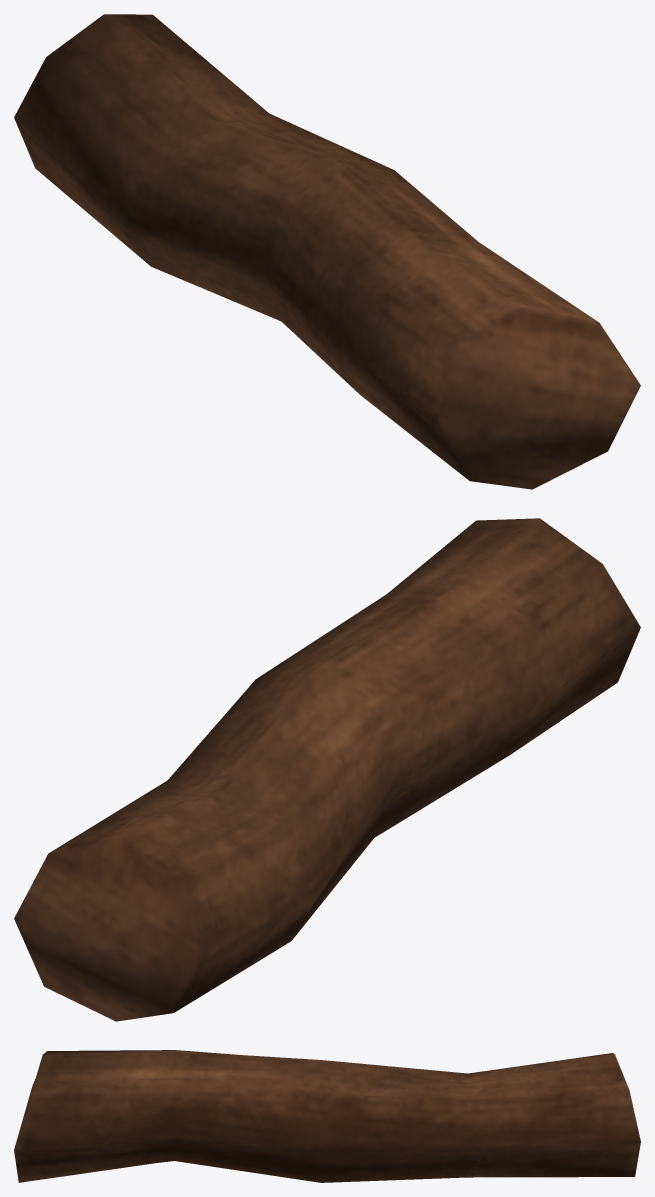
The model's file is Firewood 5.fbx.
3 views of the same model, one above another, from view 1: azimuth 30°, elevation 25°; view 2: azimuth 150°, elevation 25°; view 3: azimuth 270°, elevation 25° (orthographic). The views are drawn at different scales.
Parts seen in each view (by area): view 1: Firewood 5; view 2: Firewood 5; view 3: Firewood 5.
Boxes of the visible parts, bbox=[...] form: Firewood 5: bbox=[14, 14, 640, 489]; Firewood 5: bbox=[14, 518, 640, 1021]; Firewood 5: bbox=[14, 1050, 640, 1182].
Bounding box in the file's own units: 0.1425 × 0.1252 × 0.567.
